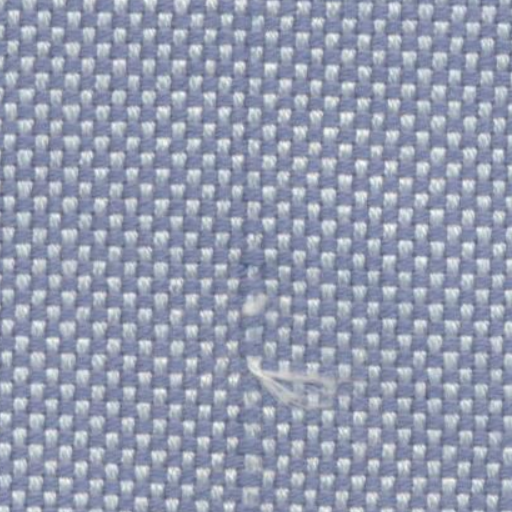DuanSha: (236, 338, 345, 422)
